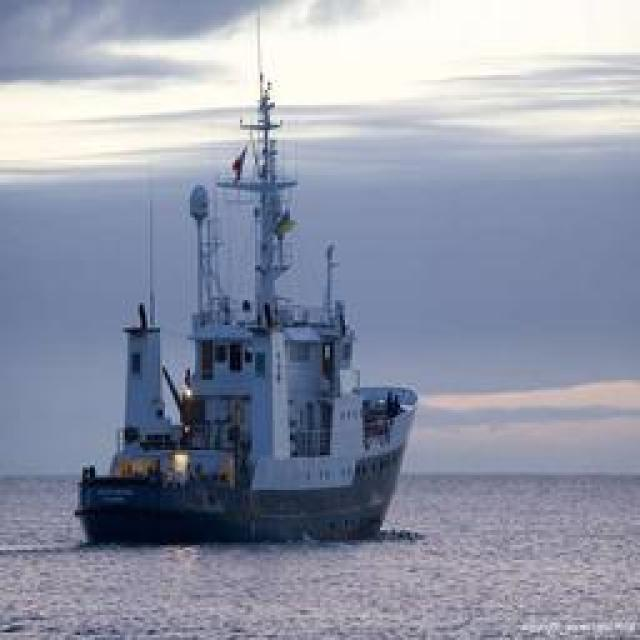CIV_Ship: (49, 19, 416, 556)
